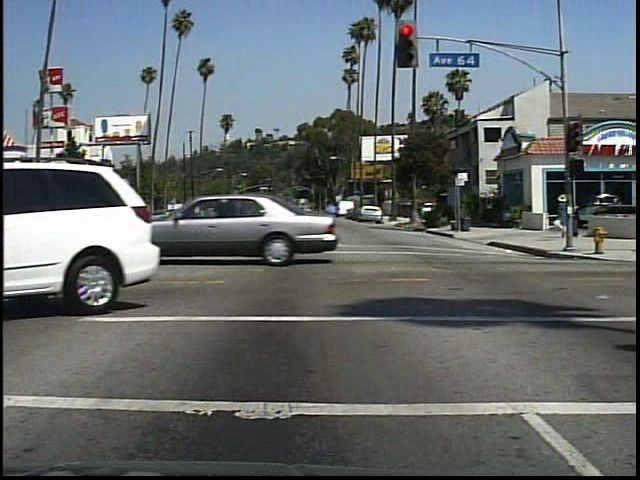person: (554, 189, 570, 239)
